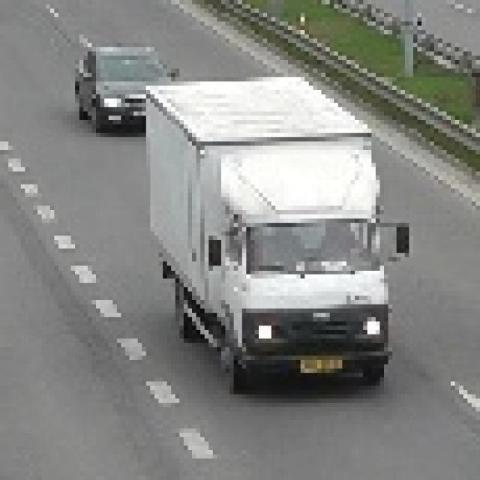truck: (150, 69, 413, 381)
